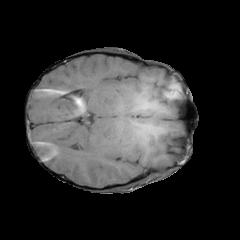glioma: (113, 80, 169, 157)
